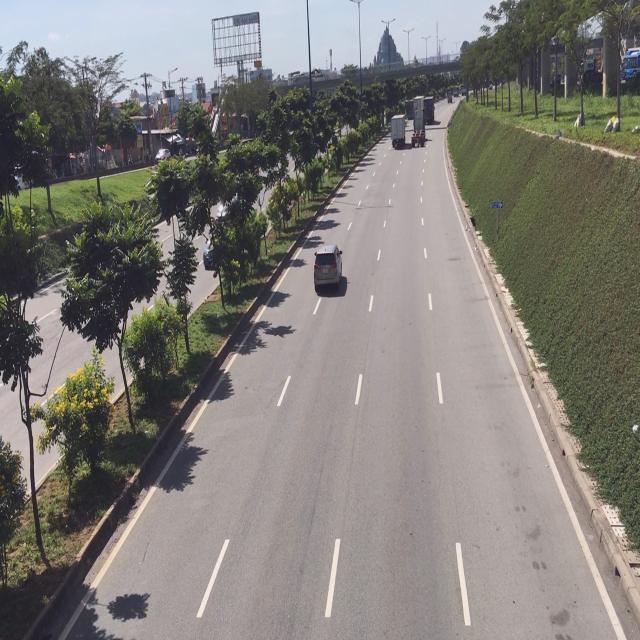car: (312, 241, 348, 297)
truck: (410, 112, 425, 149), (391, 114, 406, 150)
